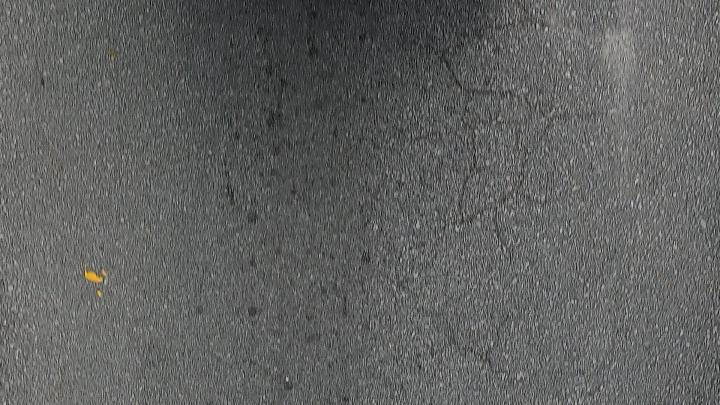Crack: (441, 49, 563, 238), (442, 54, 528, 113), (457, 120, 491, 222), (535, 98, 559, 133), (508, 152, 527, 194), (494, 196, 510, 238)
